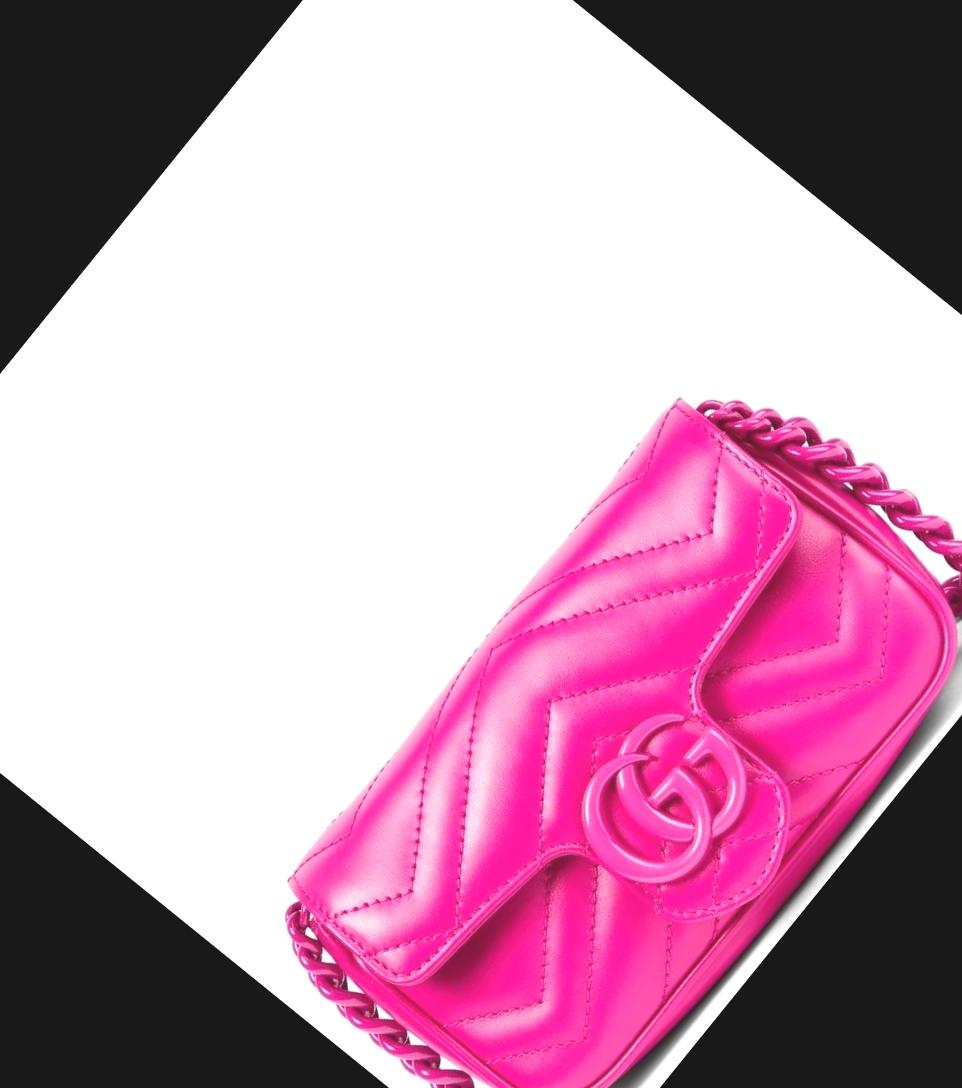GUCCI: (556, 688, 773, 911)
